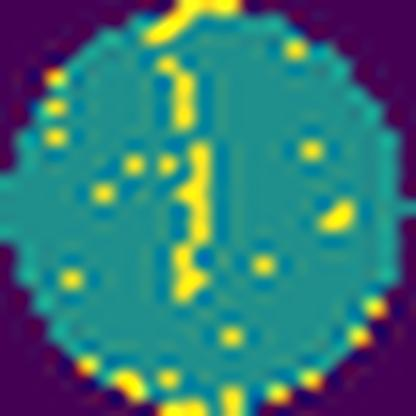Scratch: (166, 136, 220, 309), (154, 49, 202, 136)
